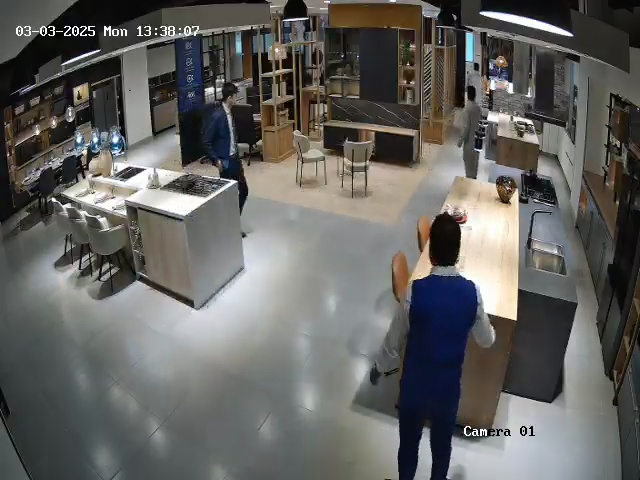employee: (395, 212, 496, 480), (202, 82, 249, 218)
male: (457, 86, 482, 179)
